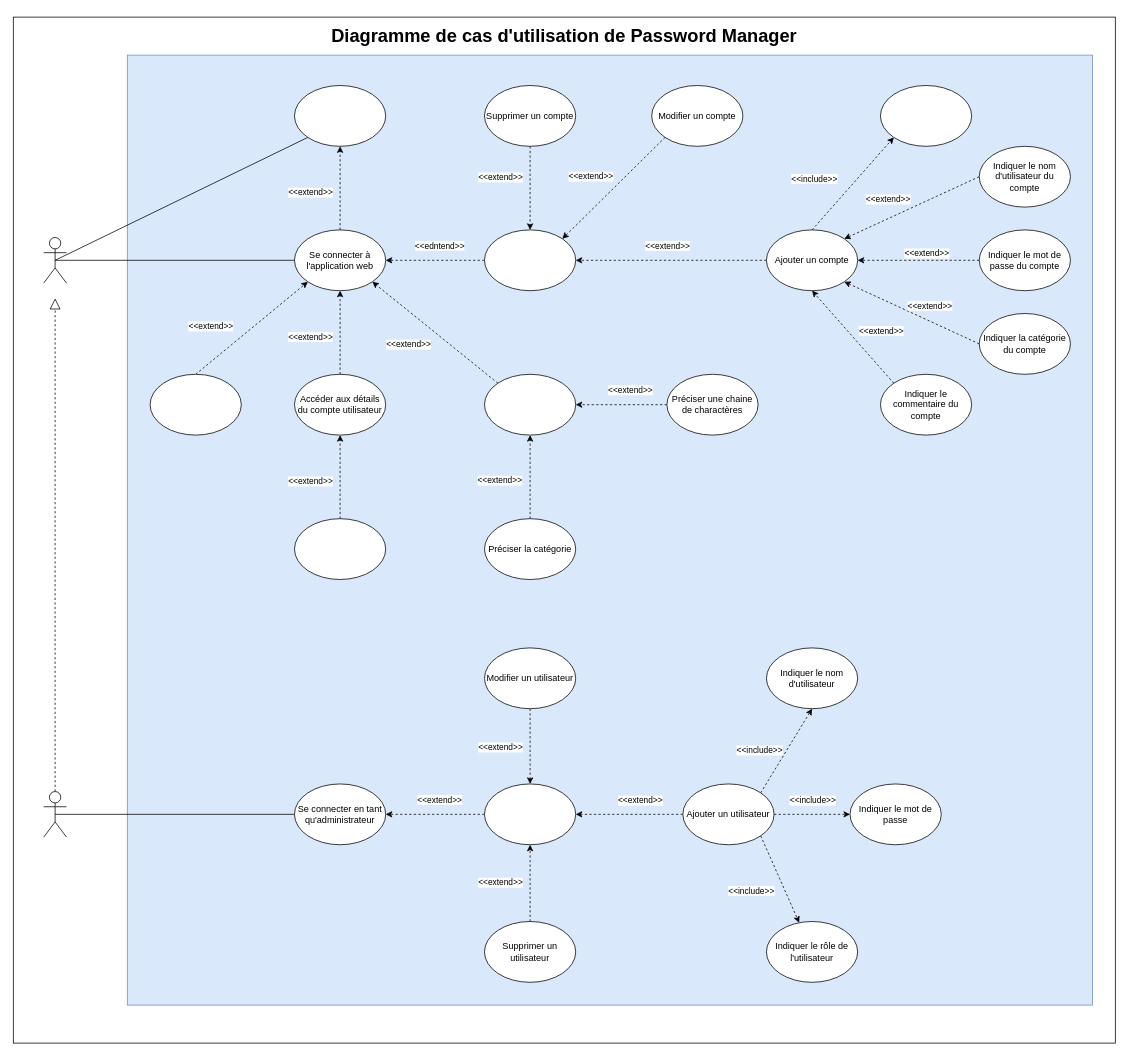
This 1129x1056 diagram has some shape labels left out. Each missing label, with the box of its shape:
Accéder au dashboard: (484, 229, 576, 291)
Accéder au générateur de mot de passe: (294, 85, 386, 146)
Accéder à l'interface administrateur: (484, 783, 576, 845)
Administrateur: (43, 791, 66, 837)
Faire une recherche parmi les comptes: (484, 374, 576, 435)
Indiquer le nom du compte: (880, 85, 972, 146)
Modifier les détails de son compte utilisateur: (294, 518, 386, 580)
Se déconnecter: (149, 374, 241, 435)
Utilisateur: (43, 237, 66, 283)
